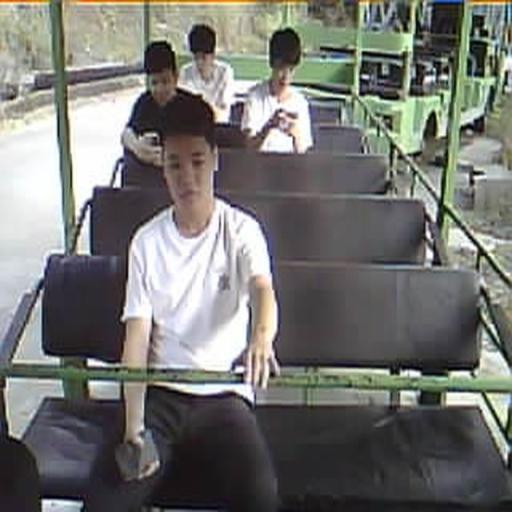persona: (116, 88, 282, 510), (120, 39, 197, 188), (240, 27, 314, 154), (177, 23, 235, 124)
